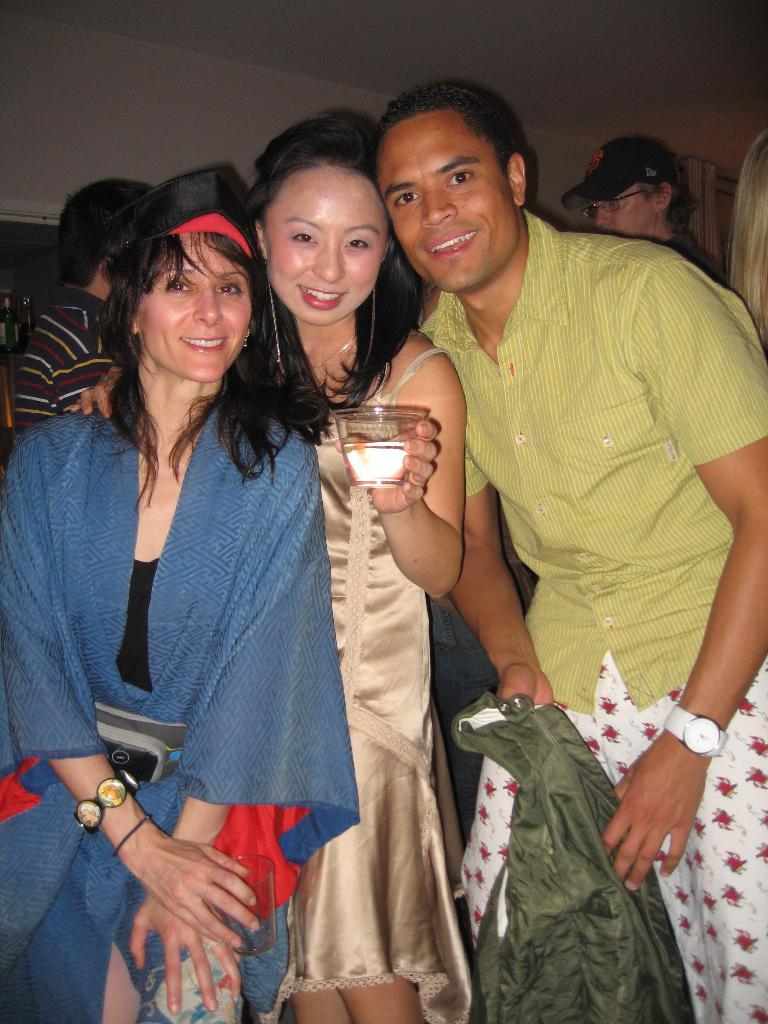Sem Máscara: (378, 105, 513, 291), (264, 165, 388, 324), (132, 233, 253, 379), (588, 181, 656, 232)
